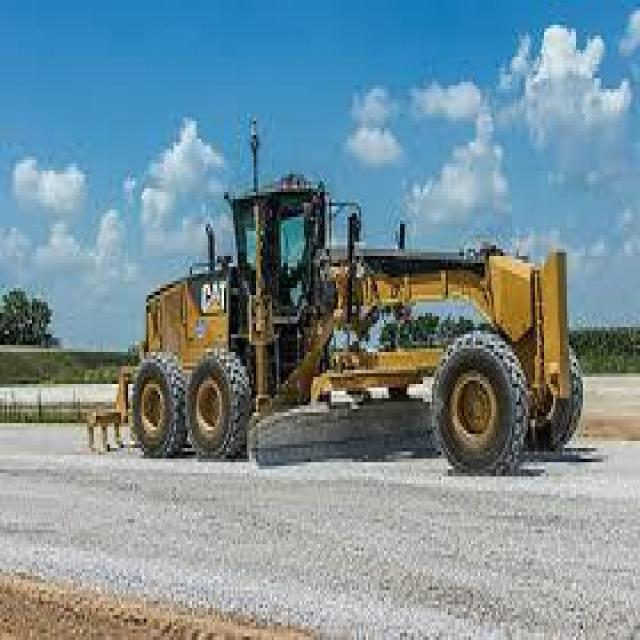Grader: (98, 167, 597, 530)
